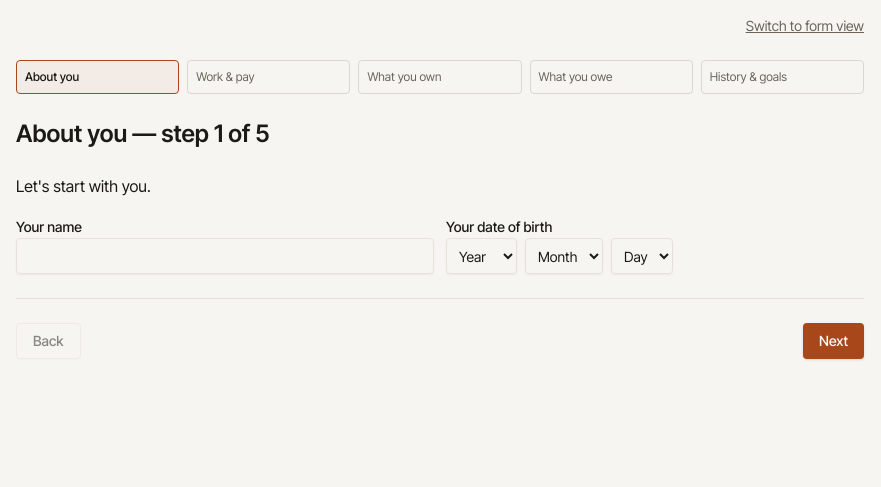
Test: SetupWizard route handler › the view toggle round-trips both directions and persists `view`
Expected: the heading "About you — step 1 of 5" is shown, [16,119,270,148]
Click the button "Switch to form view": (805, 26) [746,16,864,36]
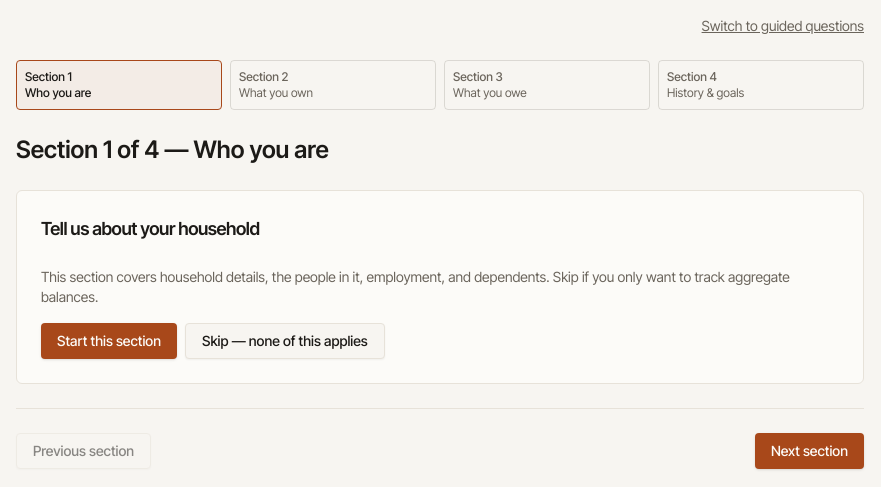
Expected: the heading "Section 1 of 4 — Who you are" is shown, [16,135,329,164]
Click the button "Switch to guided questions": (783, 26) [702,16,864,36]
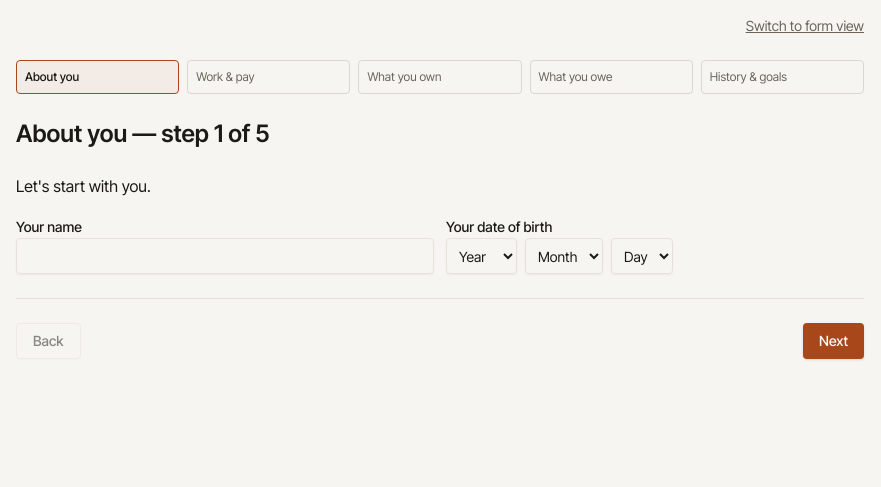
Expected: the heading "About you — step 1 of 5" is shown, [16,119,270,148]
